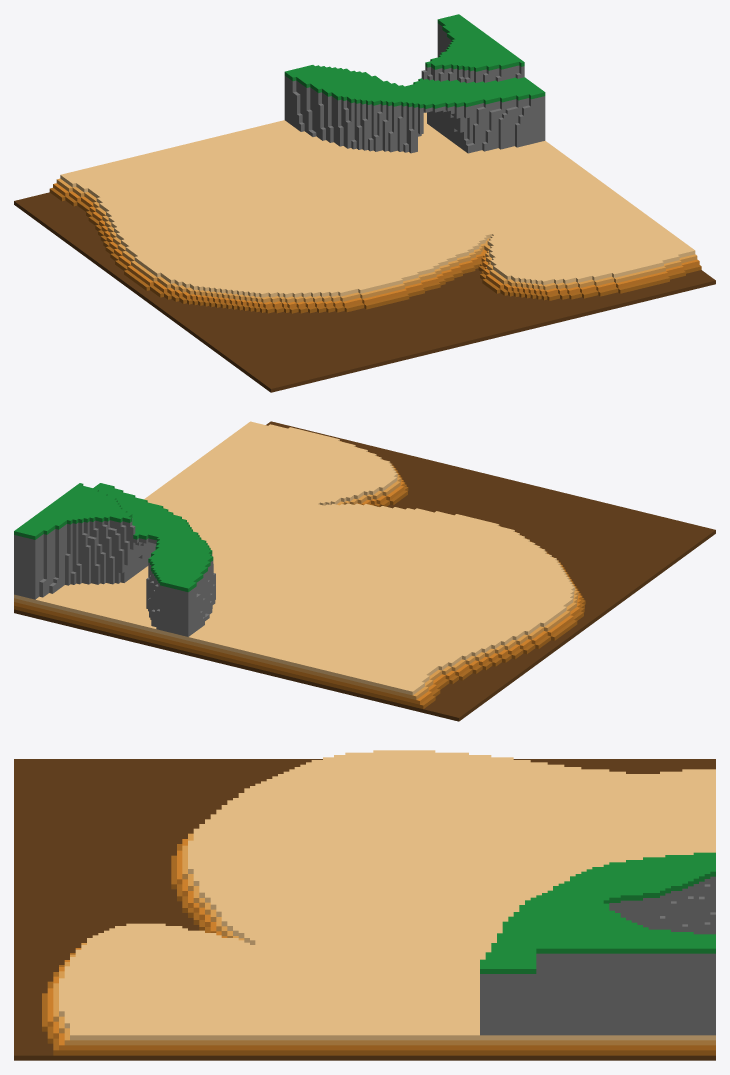
File: Terrain 7.obj
3 views of the same model, one above another, from view 1: azimuth 30°, elevation 25°; view 2: azimuth 150°, elevation 25°; view 3: azimuth 270°, elevation 25° (orthographic). The views are drawn at different scales.
Parts seen in each view (by area): view 1: Terrain 7; view 2: Terrain 7; view 3: Terrain 7.
Boxes of the visible parts, x1,y1,x2,y2 form: Terrain 7: (14,14,715,392); Terrain 7: (14,421,715,721); Terrain 7: (14,750,715,1060).
Size of the model in its own units: 125 by 22 by 125.
1 material, 1 textured.
